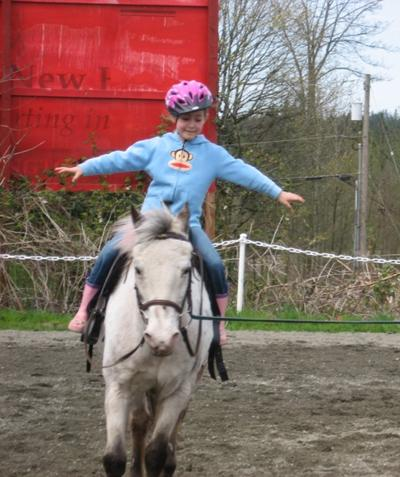person: (56, 77, 305, 347)
